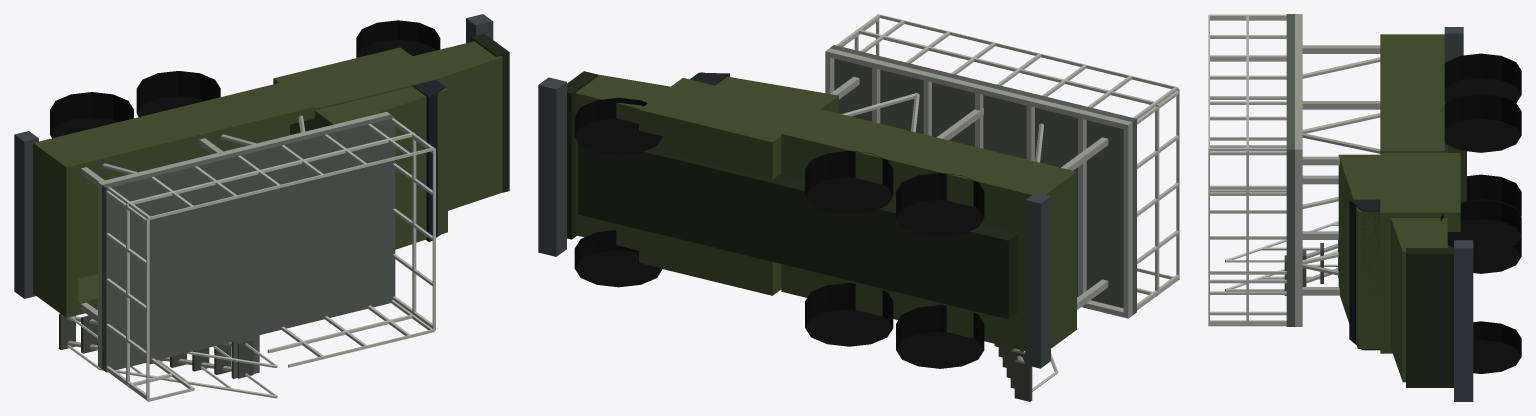
File: stardust_m925_with_12ft_deck_cm.obj
3 views of the same model, side by side, from view 1: azimuth 30°, elevation 25°; view 2: azimuth 150°, elevation 25°; view 3: azimuth 270°, elevation 25° (orthographic). The views are drawn at different scales.
Parts seen in each view (by area): view 1: Stardust_M925_5Ton_6x6_with_Upper_Deck; view 2: Stardust_M925_5Ton_6x6_with_Upper_Deck; view 3: Stardust_M925_5Ton_6x6_with_Upper_Deck.
Boxes of the visible parts, <box> form: Stardust_M925_5Ton_6x6_with_Upper_Deck: <box>14,14,509,401</box>; Stardust_M925_5Ton_6x6_with_Upper_Deck: <box>538,14,1179,401</box>; Stardust_M925_5Ton_6x6_with_Upper_Deck: <box>1208,14,1521,401</box>.
Bounding box in the file's own units: 820 × 367 × 488.
